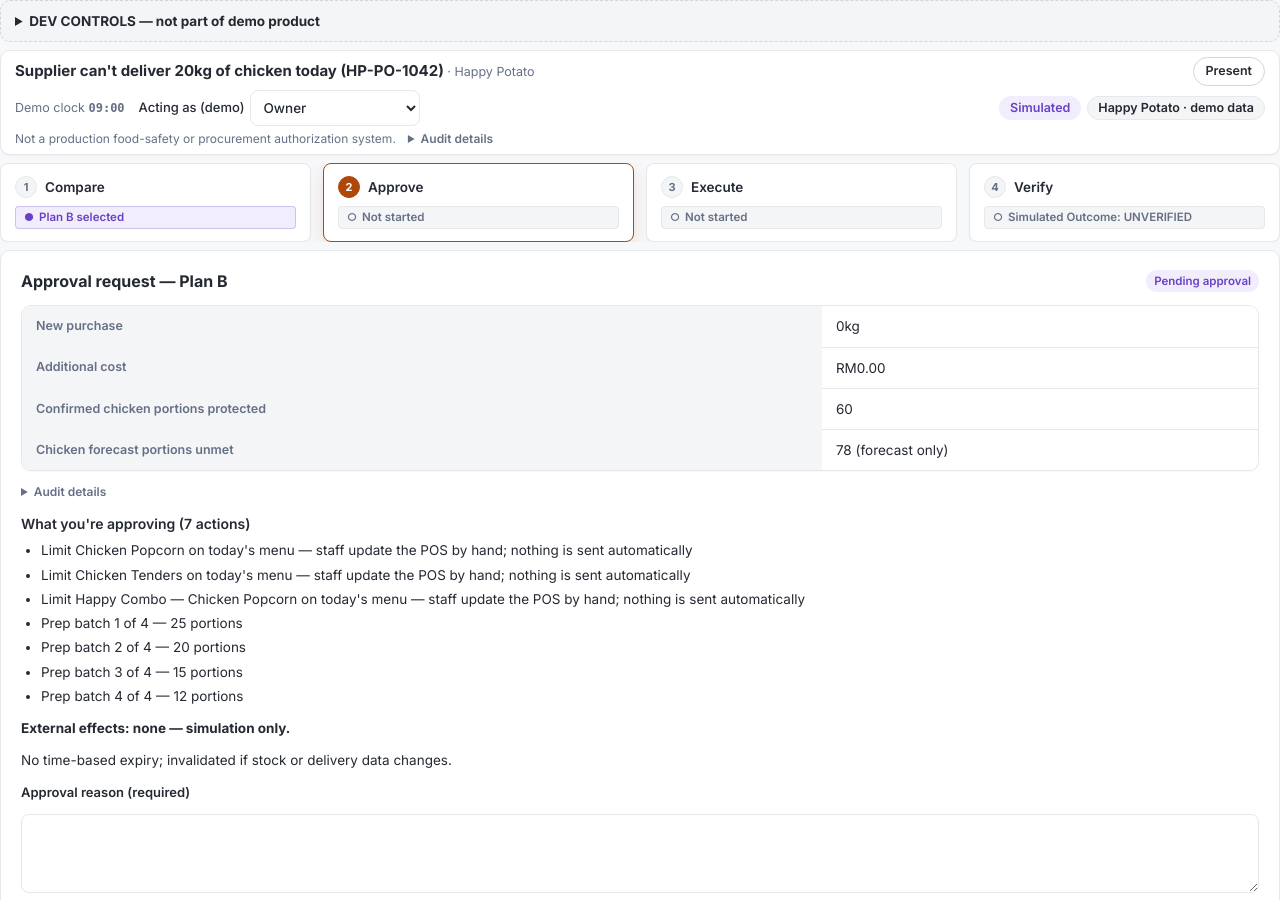
Test: P5 Acceptance Matrix: P5-T01 through P5-T18 › P5-T05: owner approval creates version-bound ApprovalRecord and tasks start in APPROVED (not VERIFIED)
The width and height of the screenshot is (1280, 900).
In the text box: (640, 854) [21, 814, 1259, 893], type "Protect confirmed portions first"
(page scrolled)
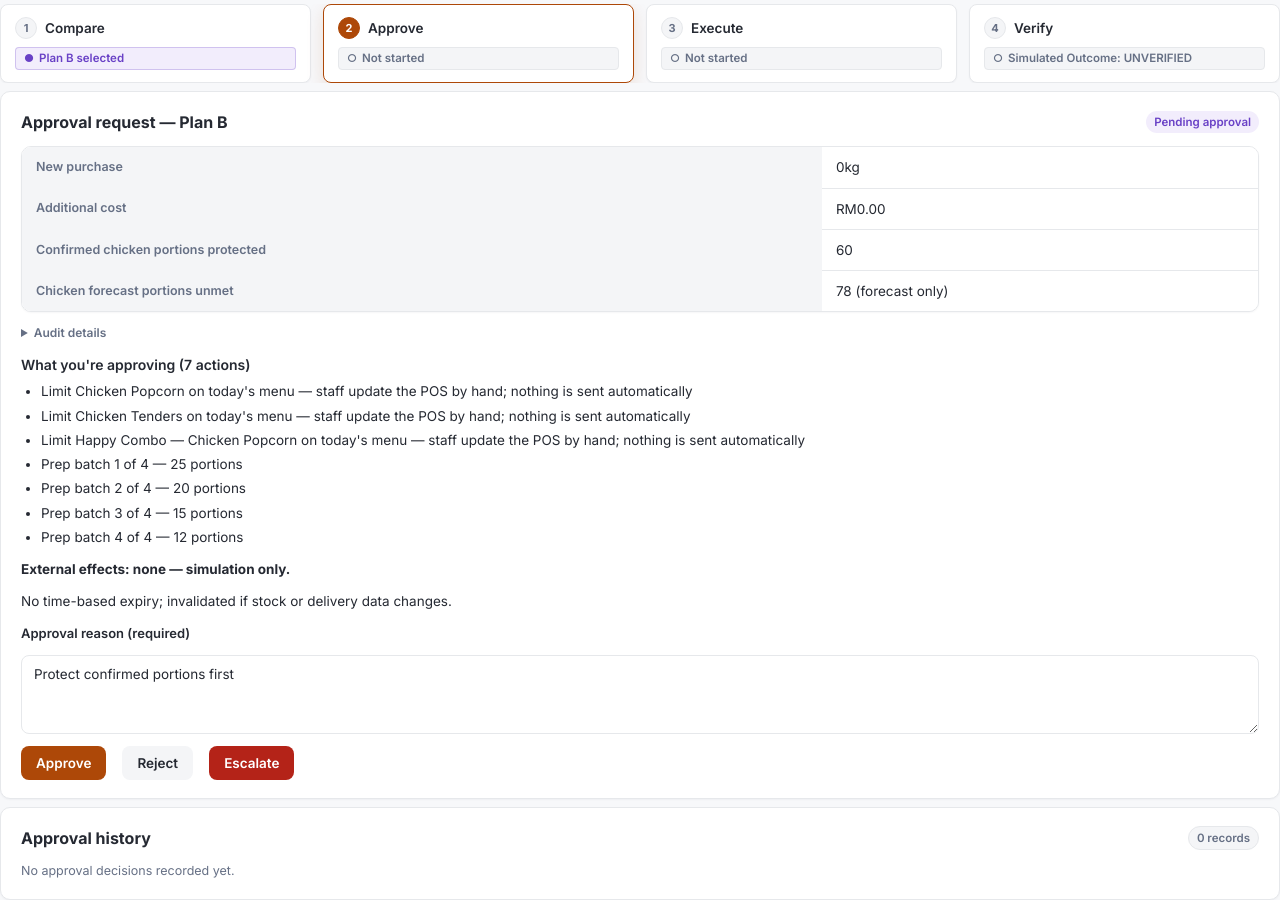
Click the button "Approve": click(64, 763) [21, 746, 106, 780]
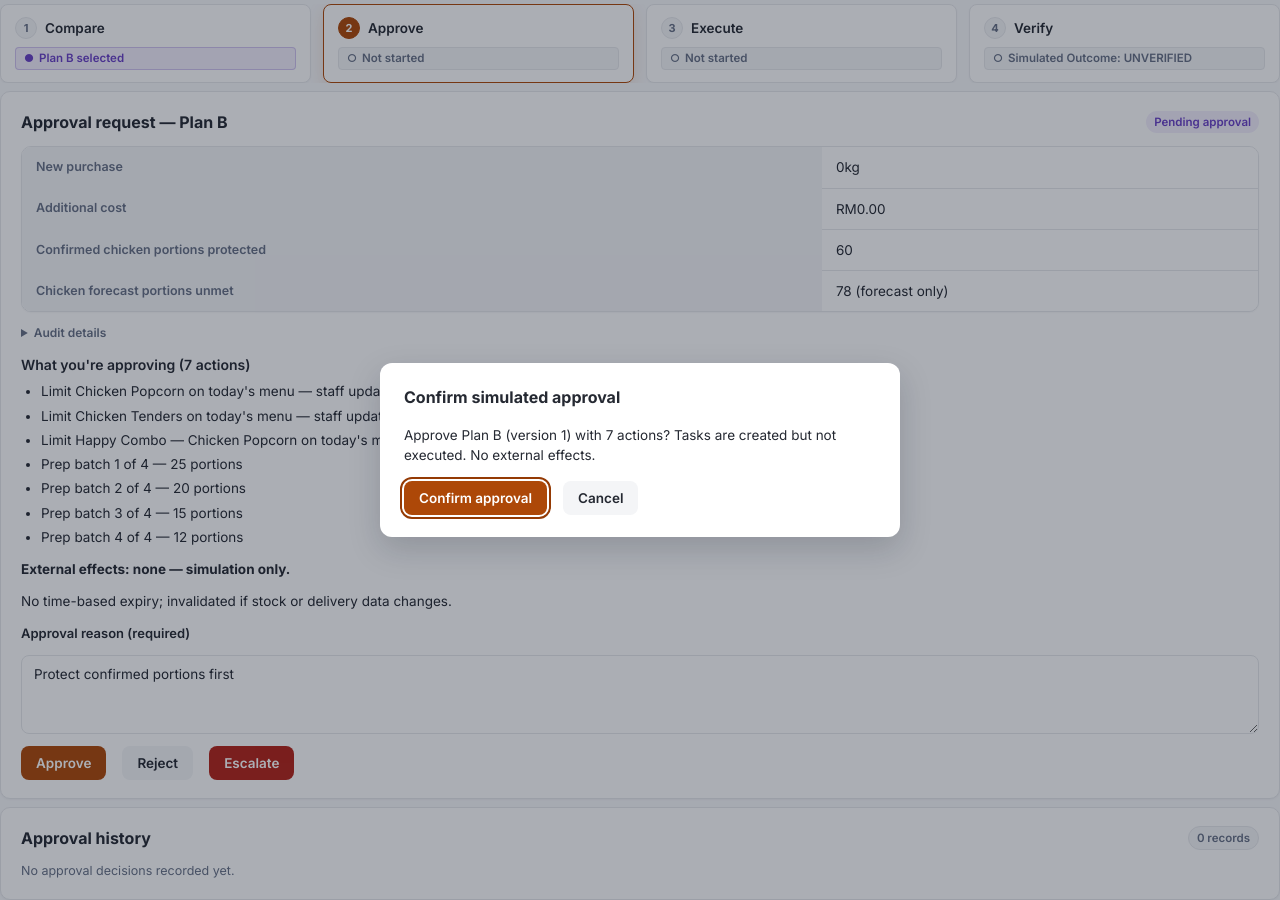
Click the button "Confirm approval": click(476, 498) [404, 481, 547, 515]
(page scrolled)
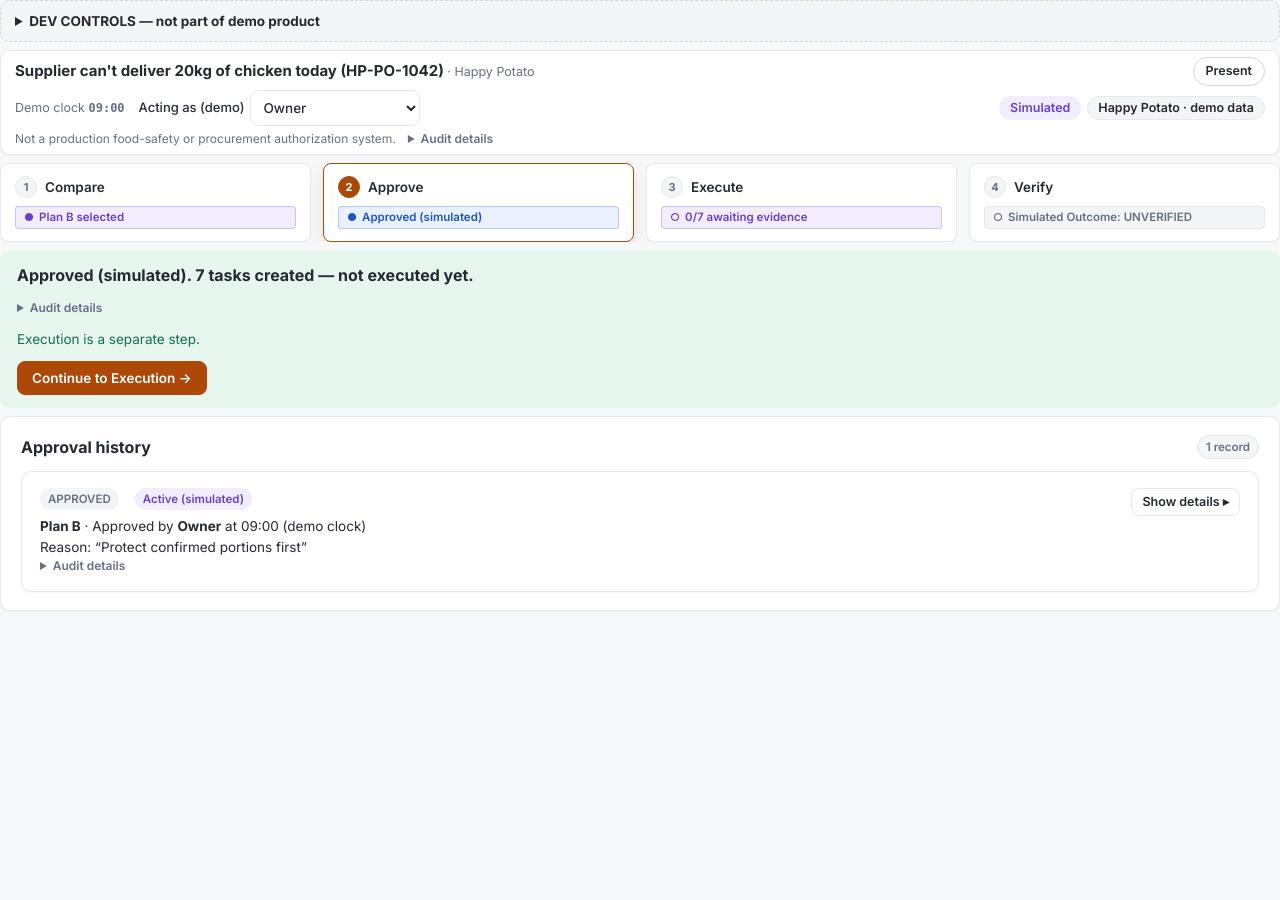
Expected: the text "APPROVED" is shown, [40, 488, 119, 510]
